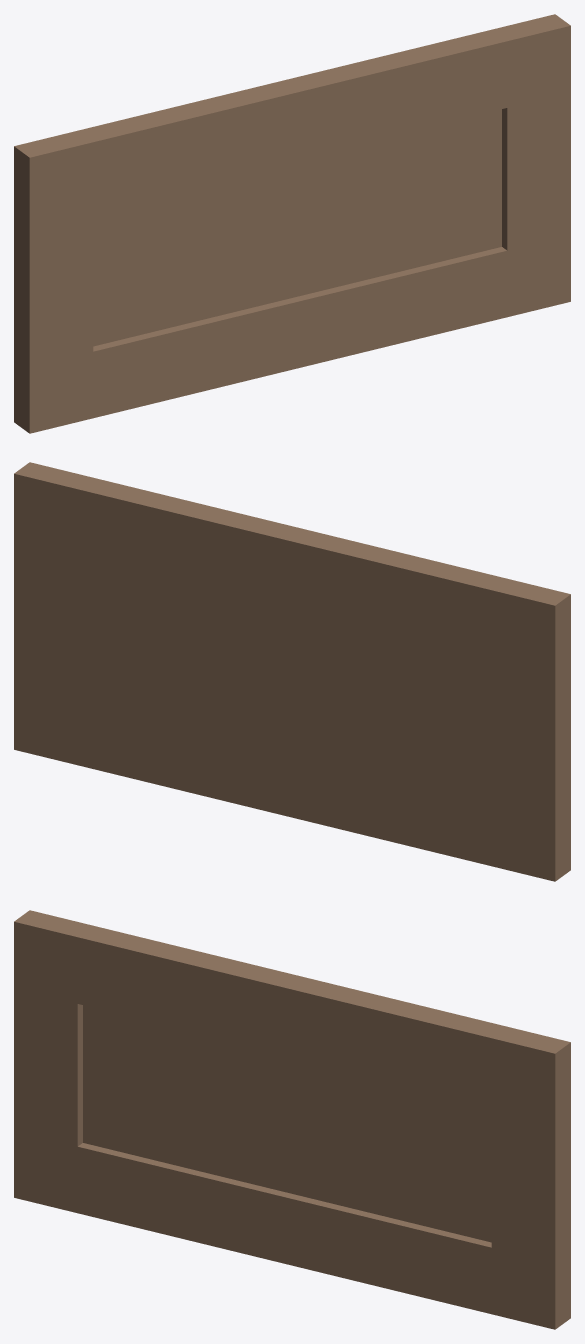
File: drawer_front_06.obj
3 renders of one model, top to bottom at view 1: azimuth 30°, elevation 25°; view 2: azimuth 150°, elevation 25°; view 3: azimuth 330°, elevation 25°, orthographic.
Visible parts, largest first — view 1: drawer_front_06; view 2: drawer_front_06; view 3: drawer_front_06.
Boxes of the visible parts, box(x1,y1,x2,y2) form: drawer_front_06: box(14, 14, 570, 433); drawer_front_06: box(14, 462, 570, 881); drawer_front_06: box(14, 910, 570, 1329).
Bounding box in the file's own units: 378 × 184 × 19.05.
